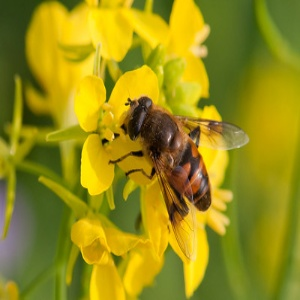bee: (118, 97, 255, 258)
